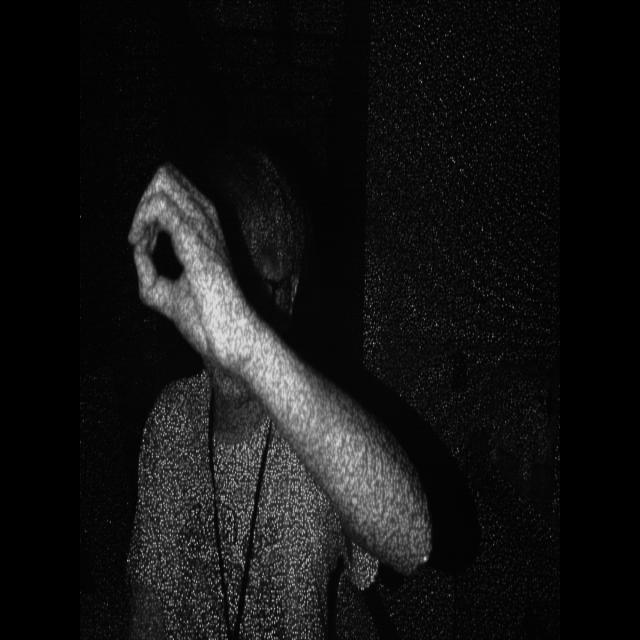O: (128, 160, 228, 354)
